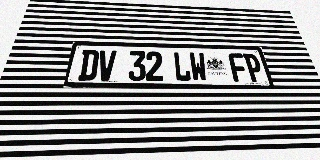2: (146, 51, 163, 81)
3: (128, 51, 145, 81)
D: (77, 50, 100, 81)
F: (228, 53, 249, 82)
L: (173, 52, 191, 81)
P: (242, 53, 265, 82)
V: (96, 50, 117, 81)
W: (189, 52, 208, 81)
